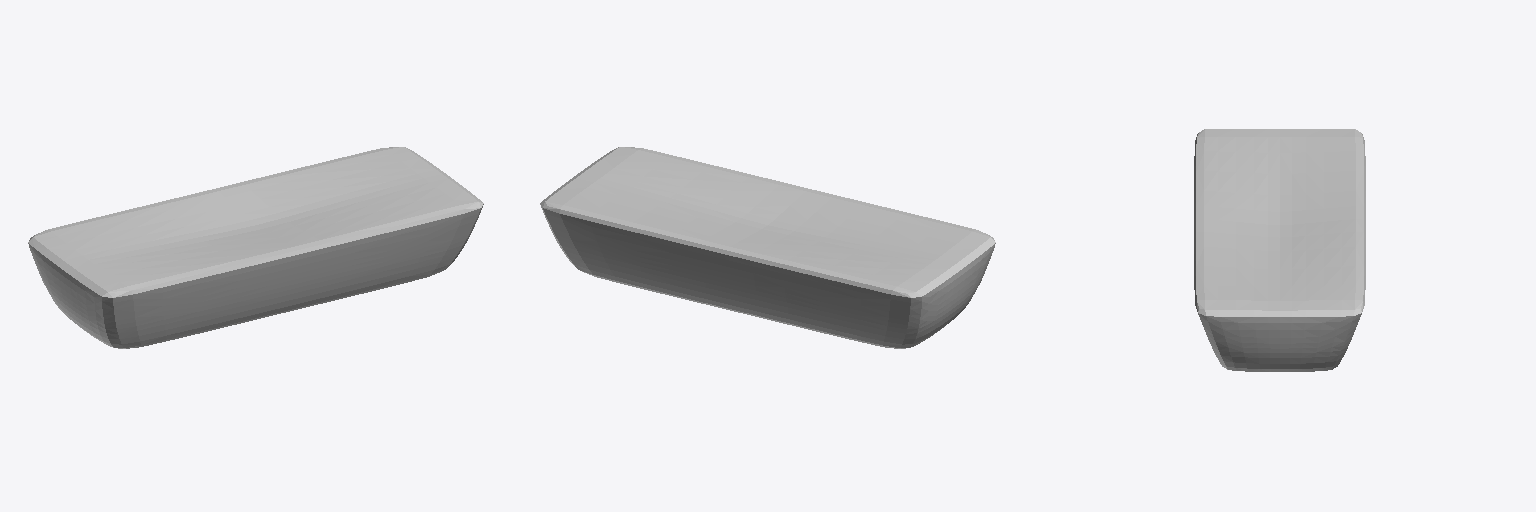
The model's file is 3D Gold OBJ.obj.
3 views of the same model, side by side, from view 1: azimuth 30°, elevation 25°; view 2: azimuth 150°, elevation 25°; view 3: azimuth 270°, elevation 25° (orthographic).
Visible parts, largest first — view 1: 3D Gold OBJ.obj; view 2: 3D Gold OBJ.obj; view 3: 3D Gold OBJ.obj.
Part boxes in pixels (bbox=[...]): 3D Gold OBJ.obj: bbox=[28, 147, 483, 348]; 3D Gold OBJ.obj: bbox=[540, 147, 995, 348]; 3D Gold OBJ.obj: bbox=[1194, 129, 1365, 371].
Bounding box in the file's own units: 5.08 × 0.9501 × 1.96.